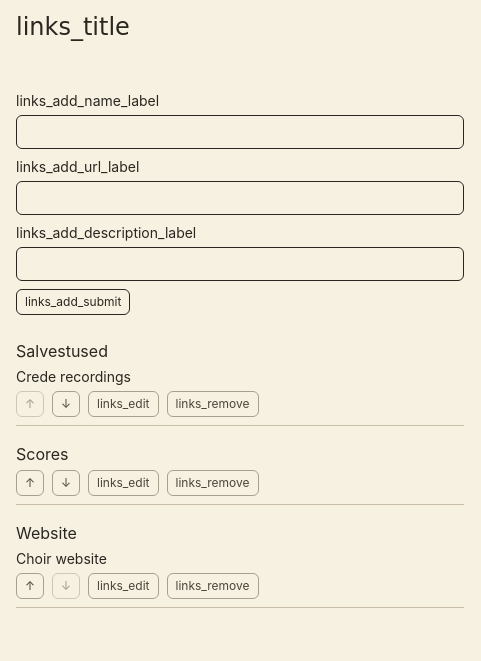
#323 — FAILED: truthful alert, retry available, screen restored to the SERVER order › when the post-failure re-read SUCCEEDS, the alert keeps the plain wording
Click the button with test id "links-move-down" below "Scores" at point(66, 483), box [52,470,80,496]
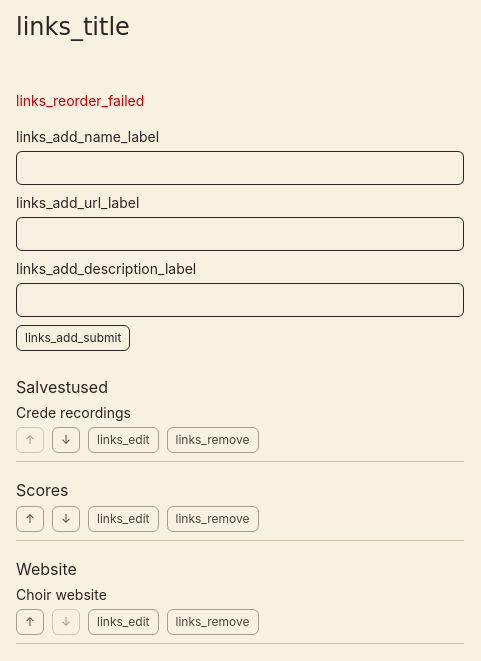
Result: the message "links_reorder_failed" is shown at [16,92,144,109]
